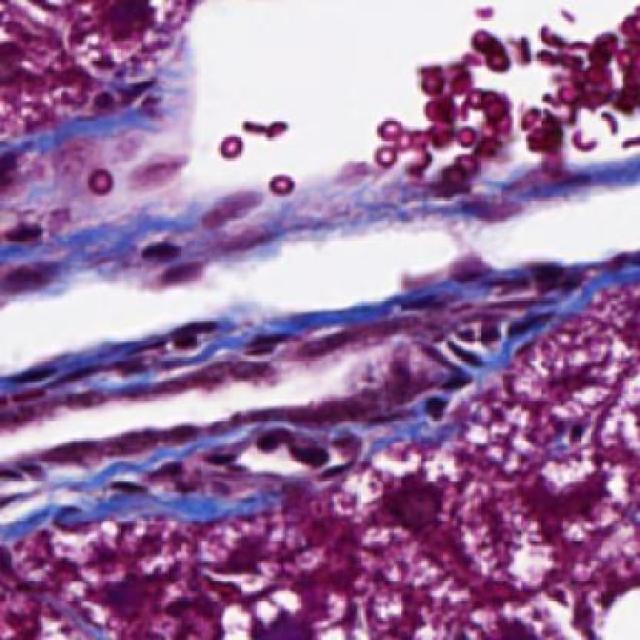inflammation: (426, 305, 562, 392), (252, 422, 366, 496)
